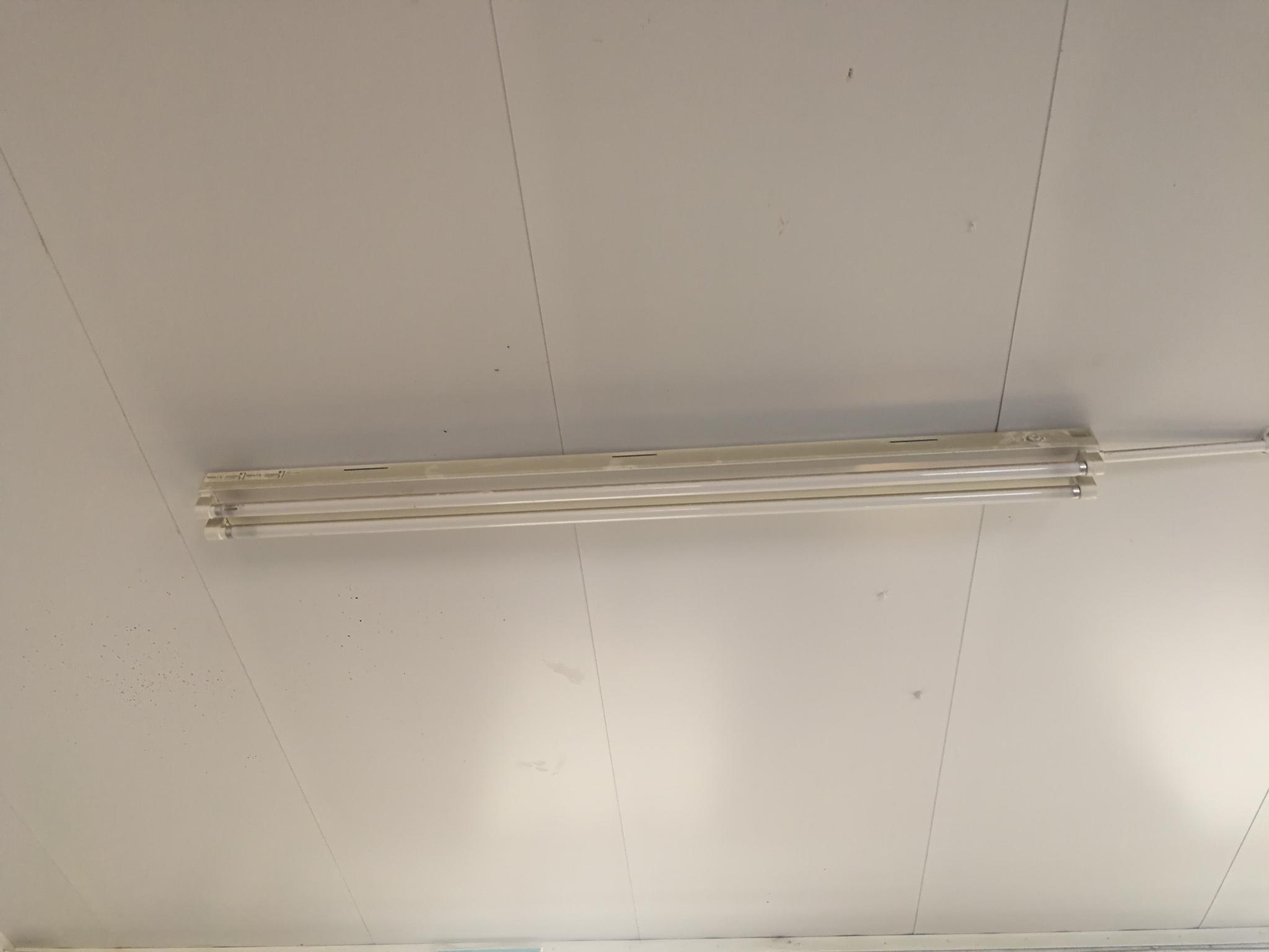light: (193, 425, 1103, 542)
